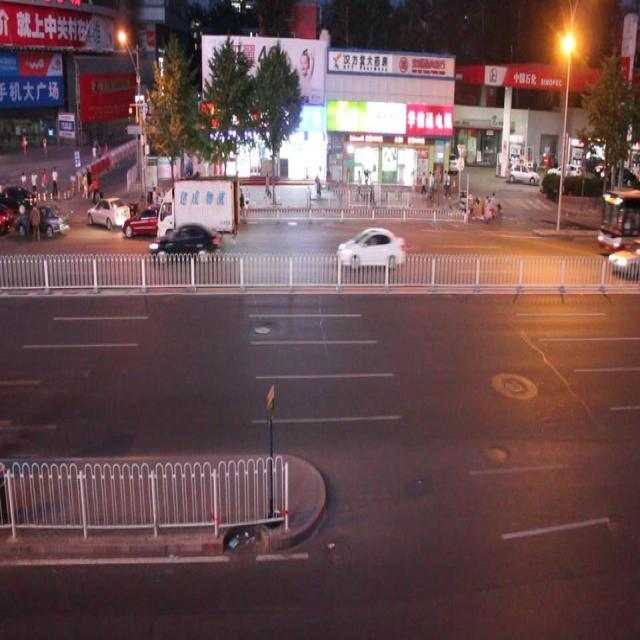bus: (153, 184, 240, 259)
car: (336, 225, 406, 273), (150, 220, 219, 268), (120, 210, 182, 251), (14, 201, 71, 239), (86, 193, 133, 234), (1, 181, 38, 218), (607, 241, 640, 279)
van: (597, 188, 640, 254)
